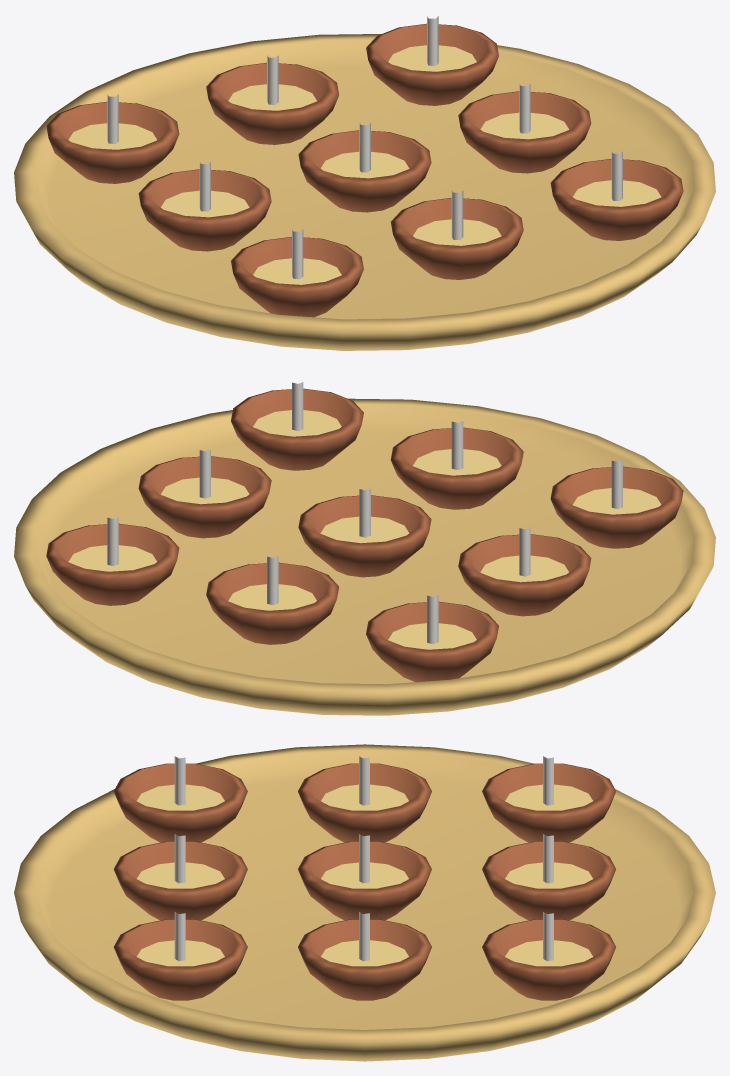
The model's file is deepmala.glb.
The picture shows the model from 3 angles, top to bottom: view 1: azimuth 30°, elevation 25°; view 2: azimuth 150°, elevation 25°; view 3: azimuth 270°, elevation 25°; orthographic projection.
Parts seen in each view (by area): view 1: deepmala; view 2: deepmala; view 3: deepmala.
Boxes of the visible parts, x1,y1,x2,y2 form: deepmala: (14, 16, 715, 350); deepmala: (14, 382, 715, 715); deepmala: (14, 744, 715, 1061).
Size of the model in its own units: 0.324 by 0.046 by 0.324.
